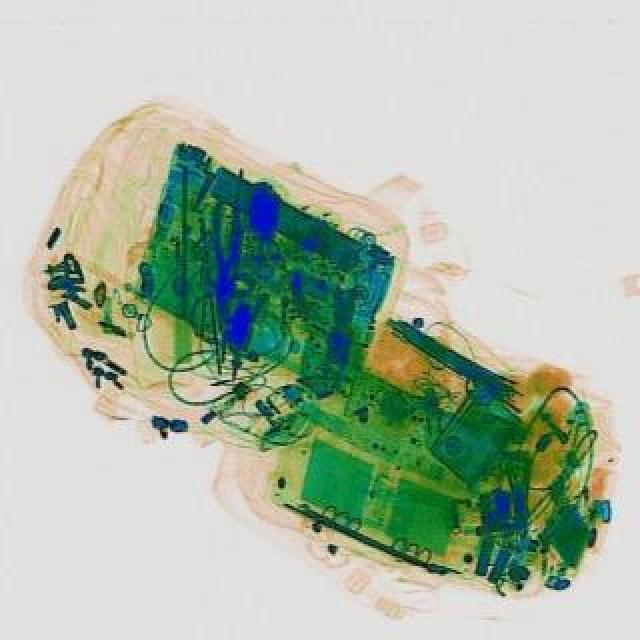wrench: (210, 200, 246, 328)
